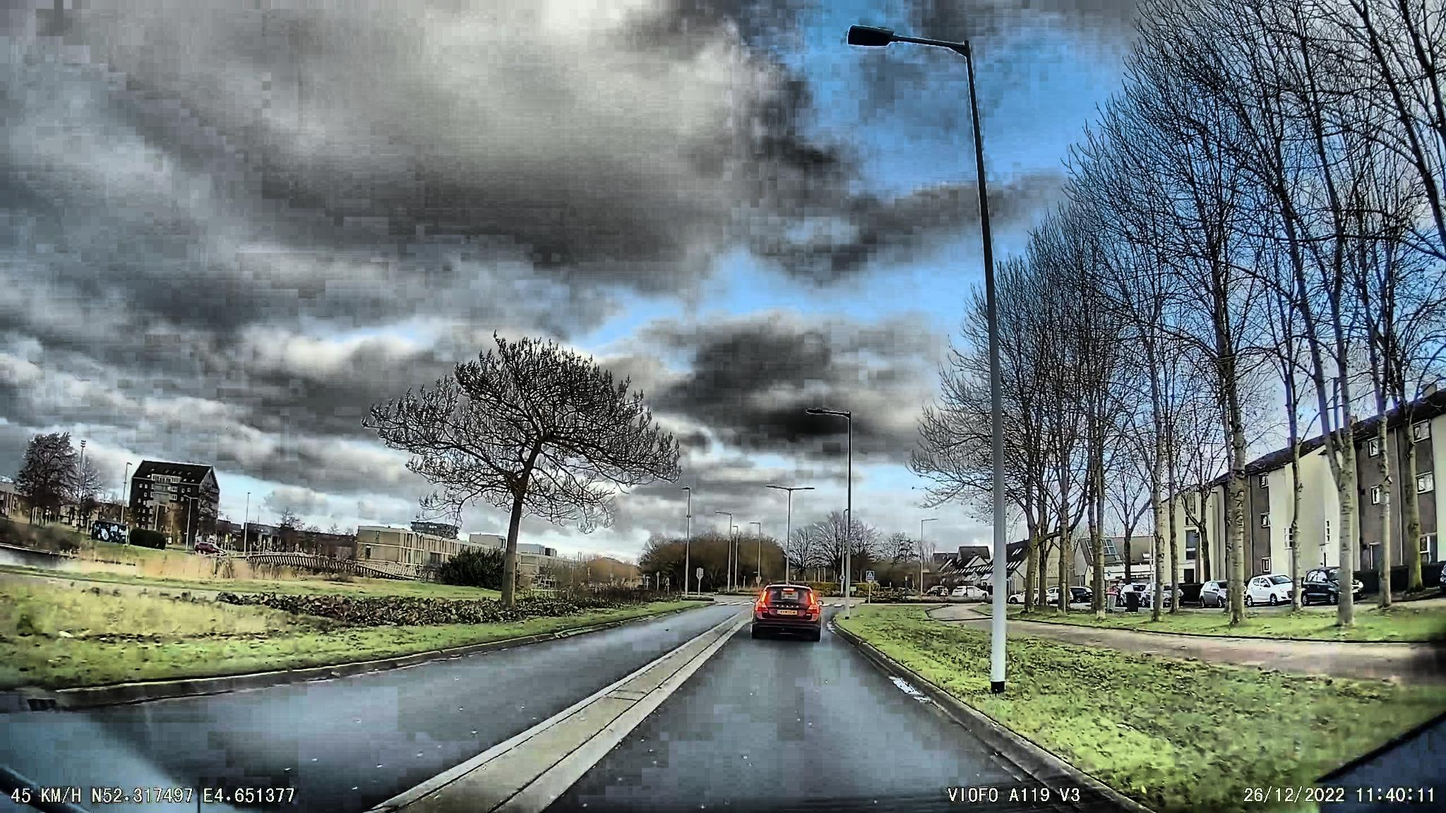Roads: (0, 606, 1144, 813)
